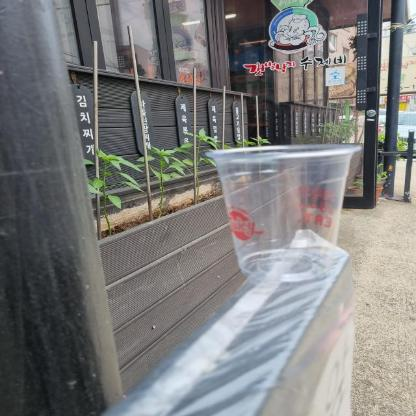Plastic Cup: (198, 140, 374, 288)
